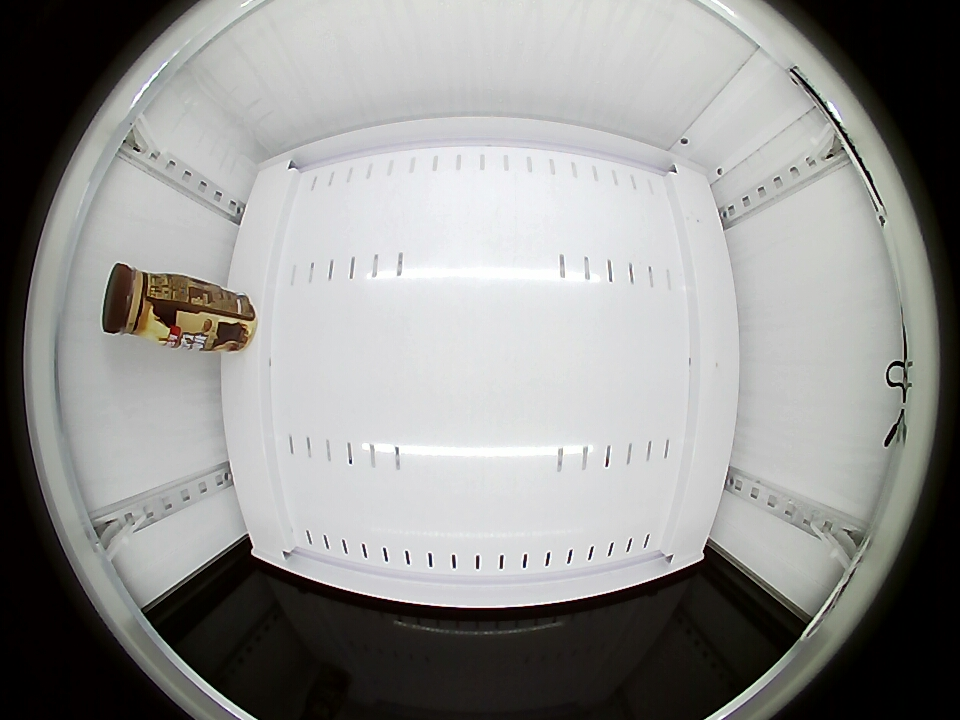lujikafei: (101, 263, 185, 346)
